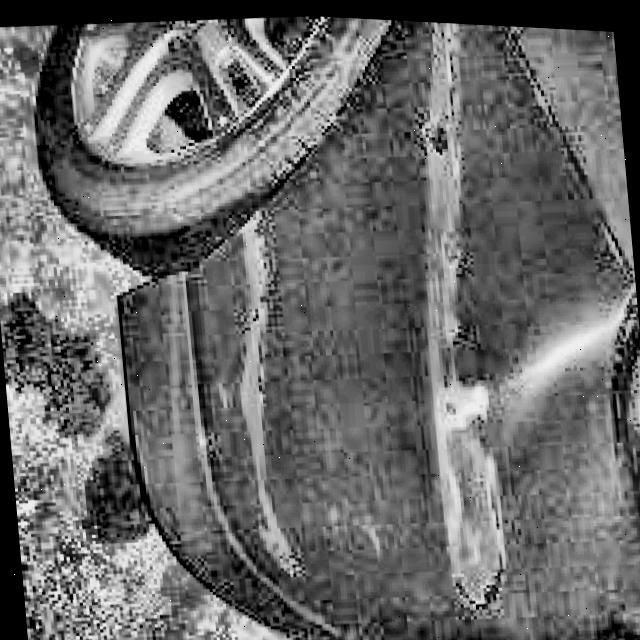bumper_scratch: (377, 20, 527, 629), (204, 200, 332, 590)
